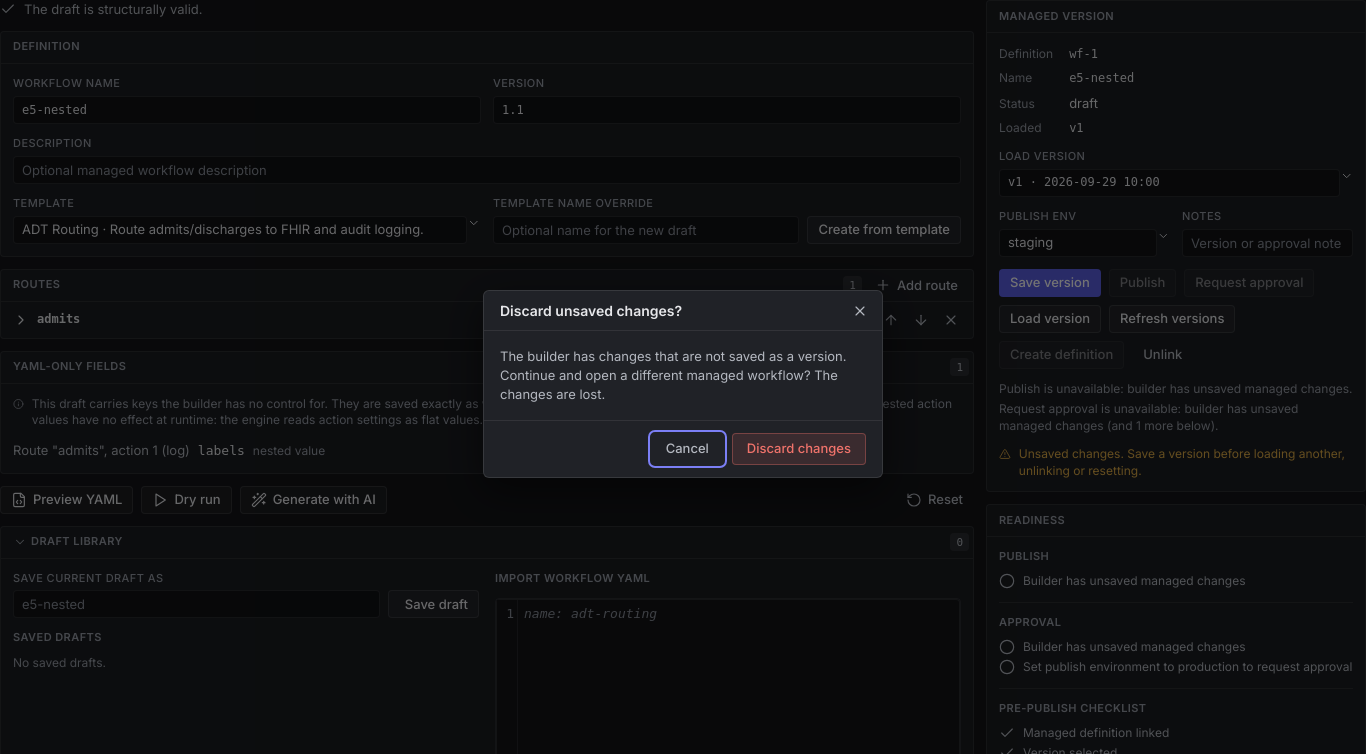
WorkflowBuilder › preserves managed changes and their protection when the replacement version cannot be read
Expected: the element with test id "workflow-yaml-only" is shown, [0,351,974,474]
Click the button "Discard changes": [799, 449] box [732,433,866,465]
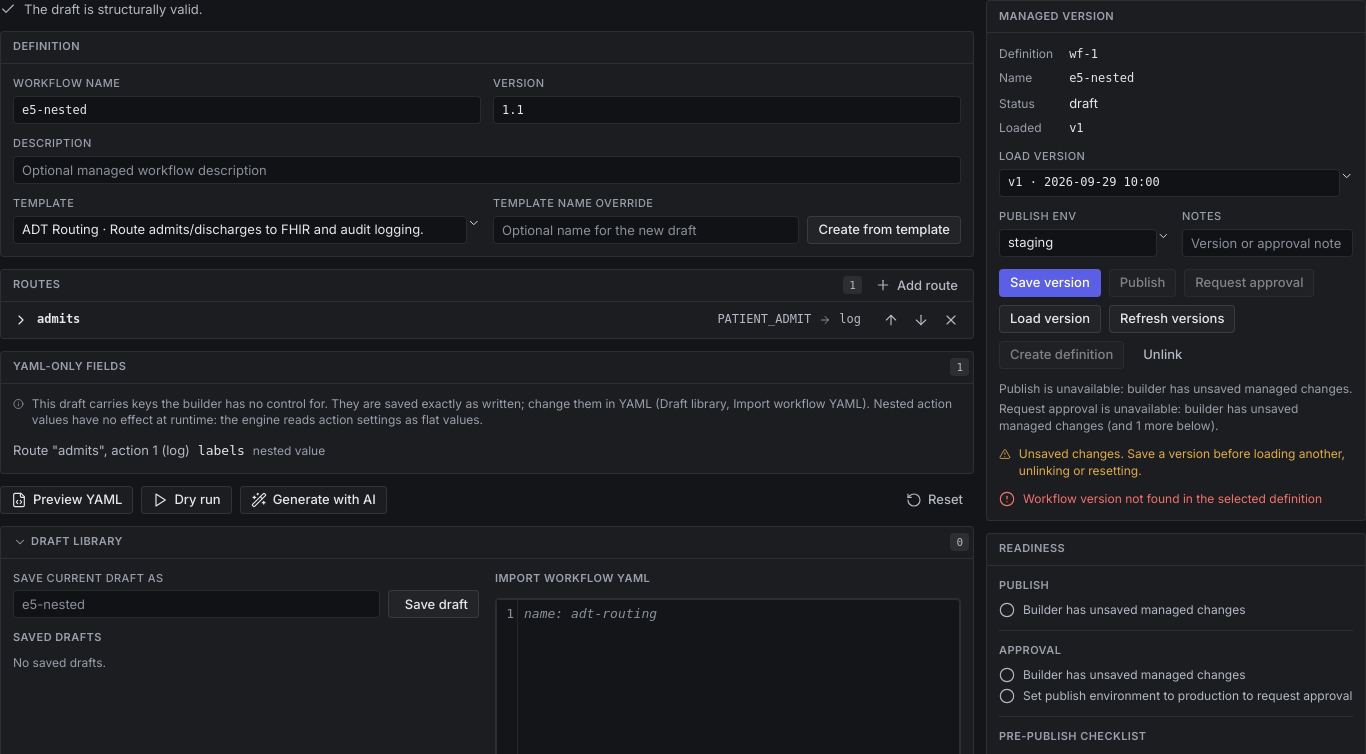
Now the text "Workflow version not found in the selected definition" is shown, box [1023,491,1322,508]
